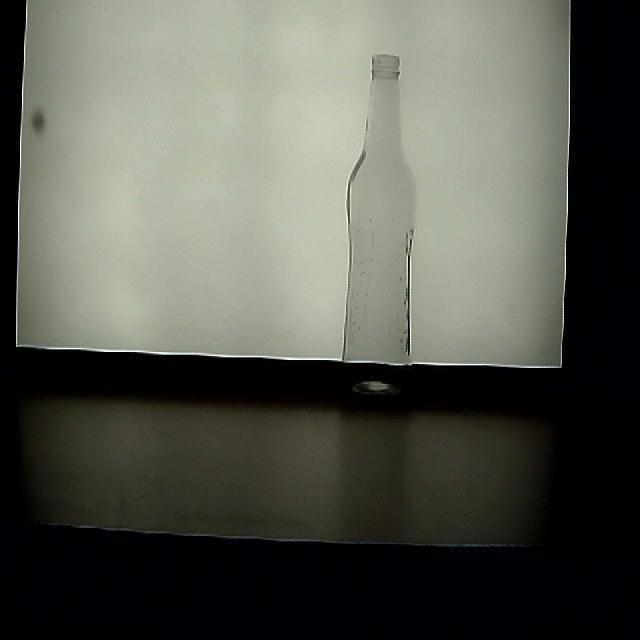Glass: (336, 55, 416, 416)
